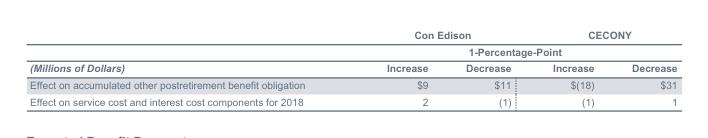table: (29, 29, 676, 106)
table column: (29, 29, 345, 106), (345, 29, 446, 106), (446, 29, 531, 106), (531, 29, 612, 106), (612, 29, 676, 106)
table column header: (29, 29, 676, 76)
table row: (29, 59, 676, 76), (29, 43, 676, 59), (29, 76, 676, 92), (29, 29, 676, 43), (29, 92, 676, 106)
table spanning cell: (29, 29, 345, 76), (345, 43, 676, 59), (345, 29, 531, 43), (531, 29, 676, 43)
